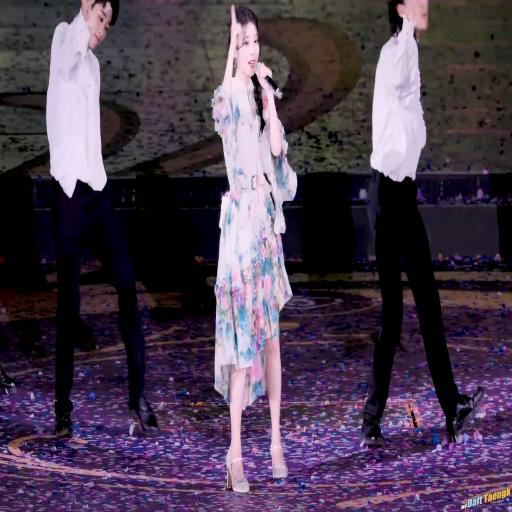IU: (228, 7, 261, 77)
